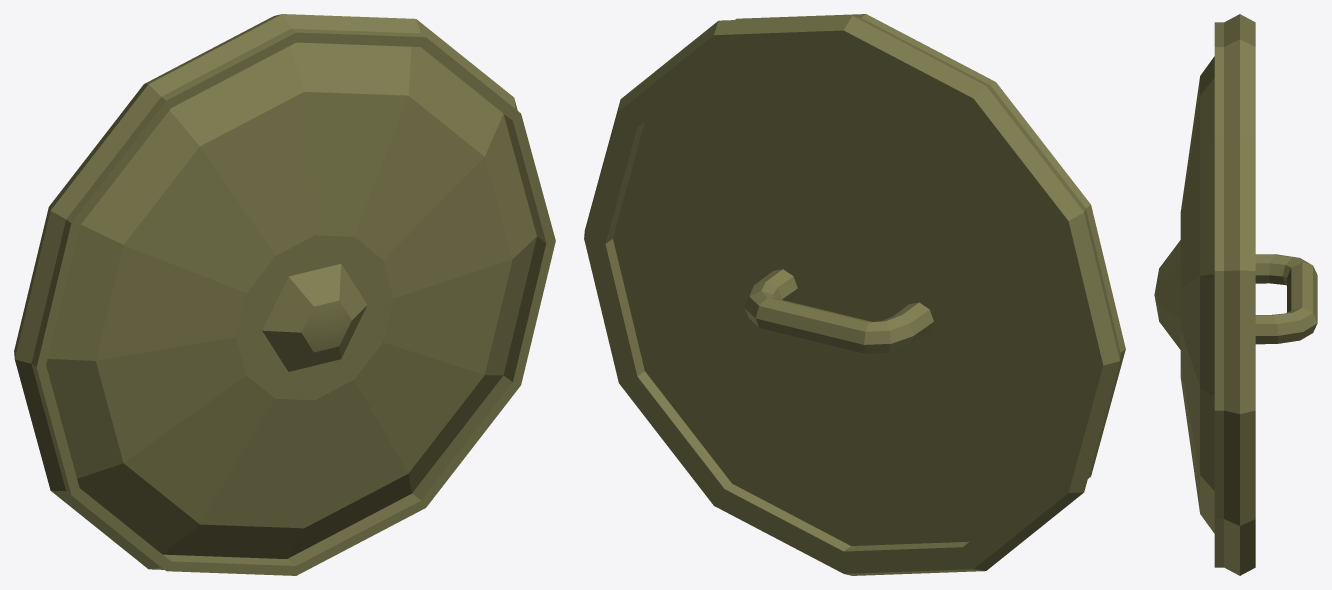
The model's file is 小圆盾.fbx.
3 renders of one model, left to right at view 1: azimuth 30°, elevation 25°; view 2: azimuth 150°, elevation 25°; view 3: azimuth 270°, elevation 25°, orthographic. The views are drawn at different scales.
Visible parts, largest first — view 1: 盾; view 2: 盾; view 3: 盾.
Boxes of the visible parts, bbox=[...] form: 盾: bbox=[14, 14, 555, 575]; 盾: bbox=[584, 14, 1125, 575]; 盾: bbox=[1154, 14, 1317, 575].
Size of the model in its own units: 76.84 by 76.84 by 22.23.
